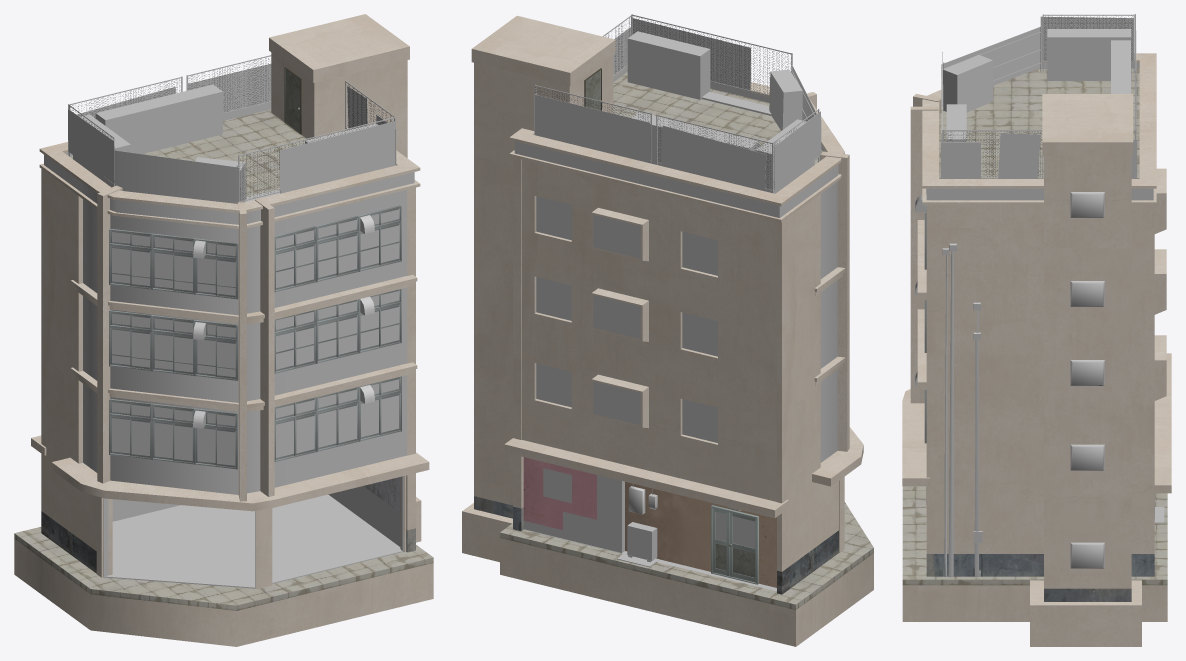
Rendered from mallbil_3x4_2_kado_in.fbx.
The picture shows the model from 3 angles, left to right: view 1: azimuth 30°, elevation 25°; view 2: azimuth 150°, elevation 25°; view 3: azimuth 270°, elevation 25°; orthographic projection. The views are drawn at different scales.
Visible parts, largest first — view 1: mallbil_3x4_2_kado_In; view 2: mallbil_3x4_2_kado_In; view 3: mallbil_3x4_2_kado_In.
Boxes of the visible parts, x1,y1,x2,y2 form: mallbil_3x4_2_kado_In: (14,14,433,646); mallbil_3x4_2_kado_In: (462,14,873,646); mallbil_3x4_2_kado_In: (902,14,1171,646).
Size of the model in its own units: 1340 by 1854 by 902.
